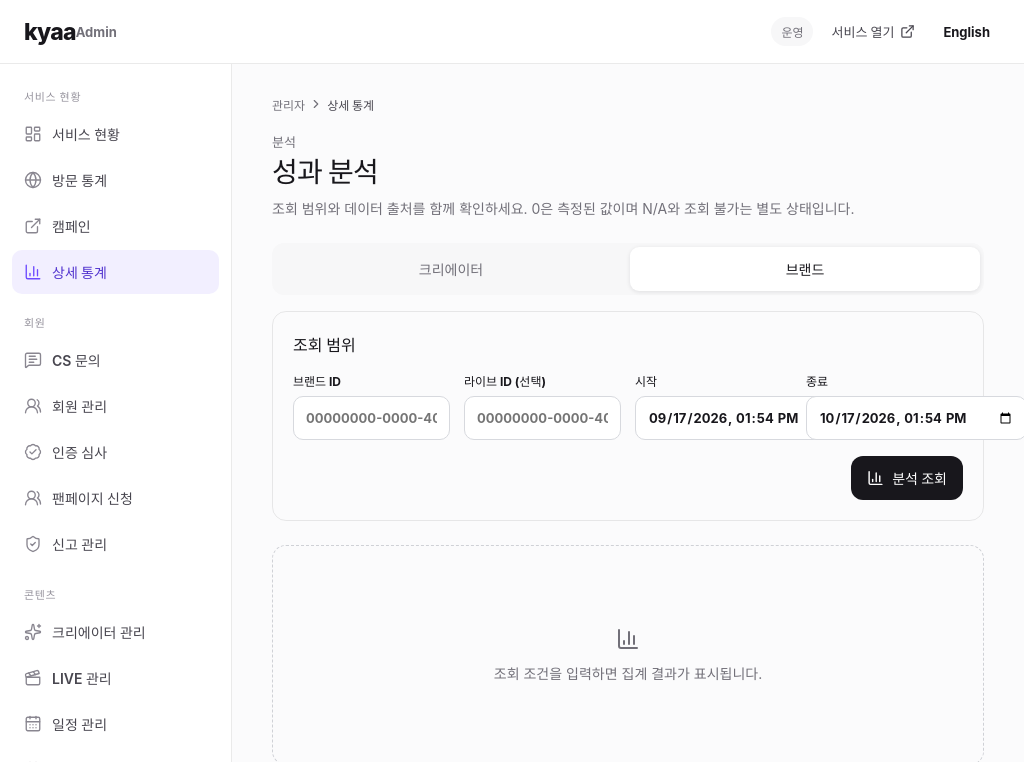
Test: Admin operations surfaces › renders measured zero separately from unavailable and shows canonical source and denominator
Type "11111111-1111-4111-8111-111111111111" into the field labelled "브랜드 ID".
click(372, 418); type("11111111-1111-4111-8111-111111111111")  # box [293,396,450,440]
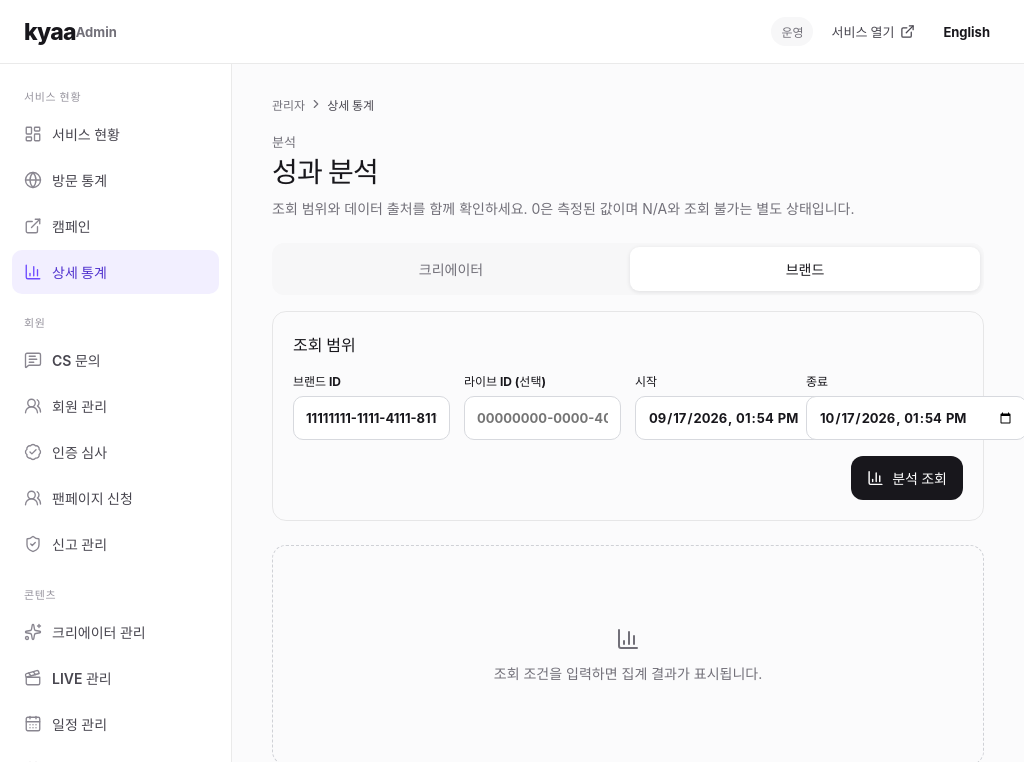
Click the button "분석 조회".
click(907, 478)  # box [851,456,963,500]
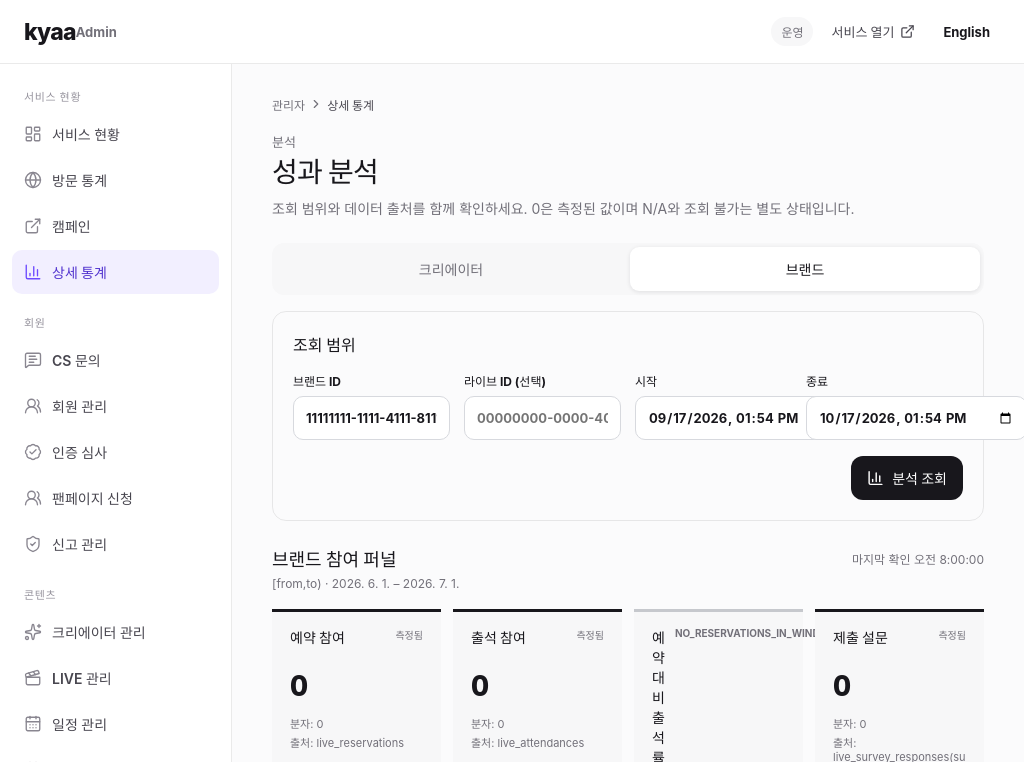
Expected: the heading "브랜드 참여 퍼널" is shown, [272,549,396,570]
Expected: the text "출처: live_reservations" is shown, [290,734,423,750]
